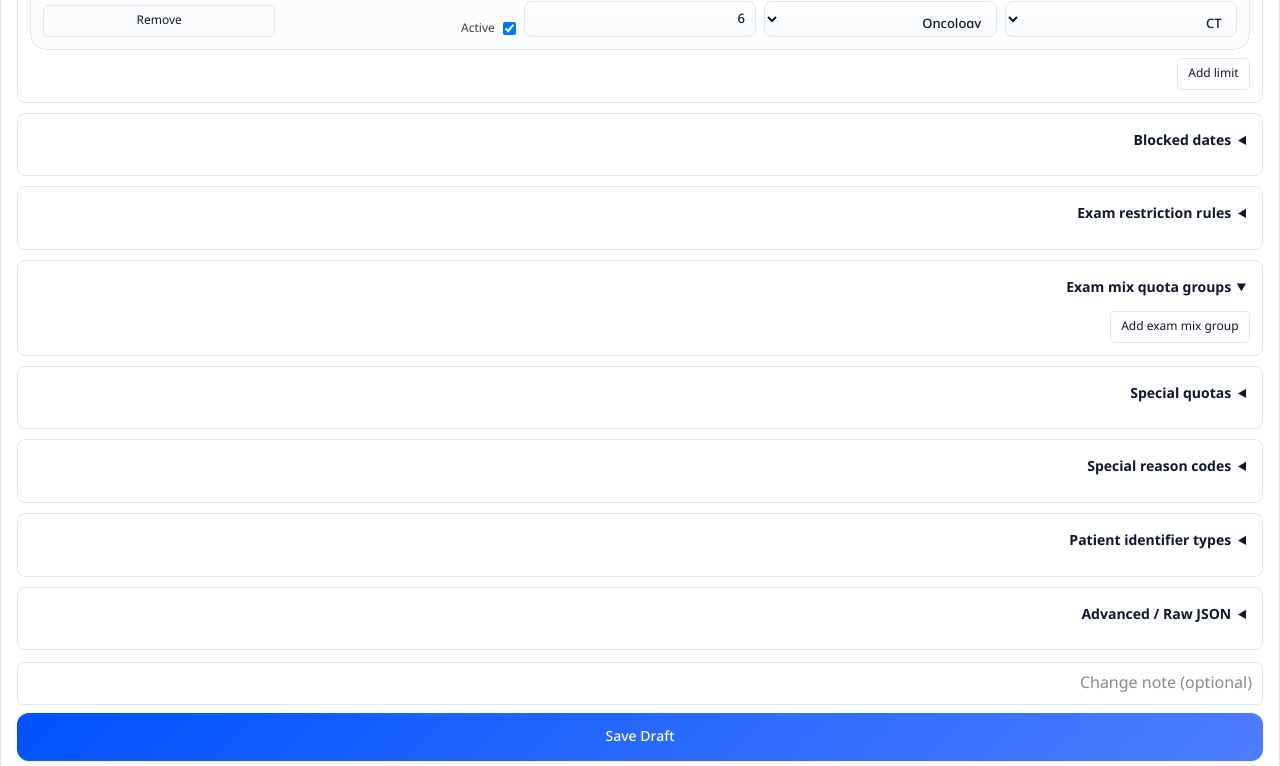
it: PolicyDraftEditor category daily limits › blocks save when duplicate active modality/category rows exist
(page scrolled)
Click the button "Save Draft".
click(640, 737)  # box left=17, top=713, right=1263, bottom=761
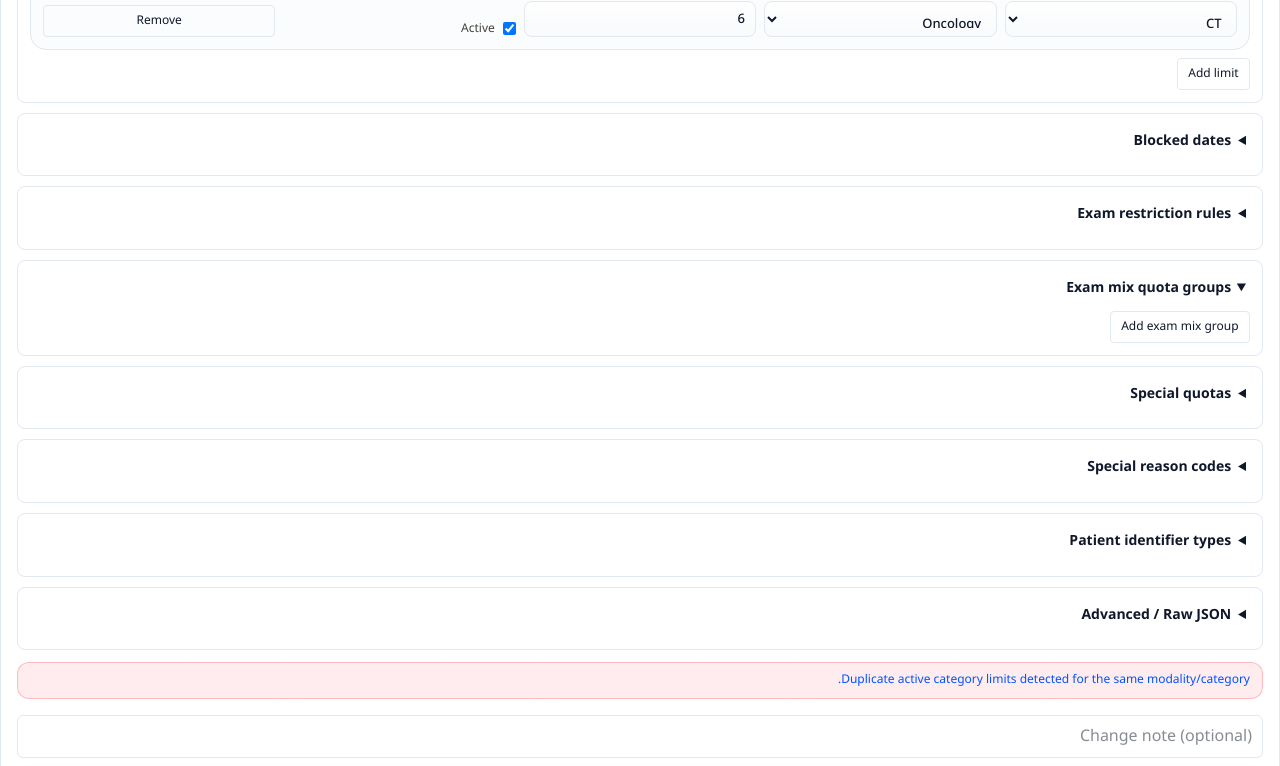
Expected: the text "Duplicate active category limits detected for the same modality/category." is shown, left=17, top=662, right=1263, bottom=699
